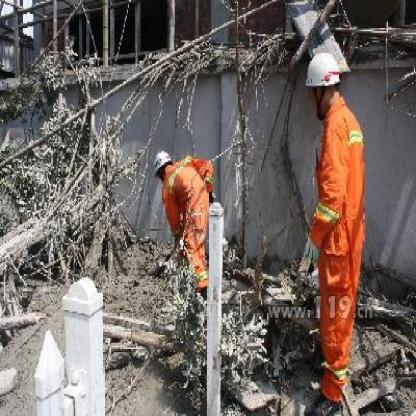helmet: (303, 47, 346, 123), (152, 150, 174, 186)
